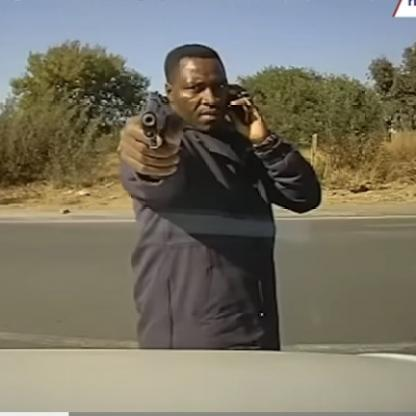criminal: (118, 44, 323, 351)
weapon: (140, 91, 172, 148)
